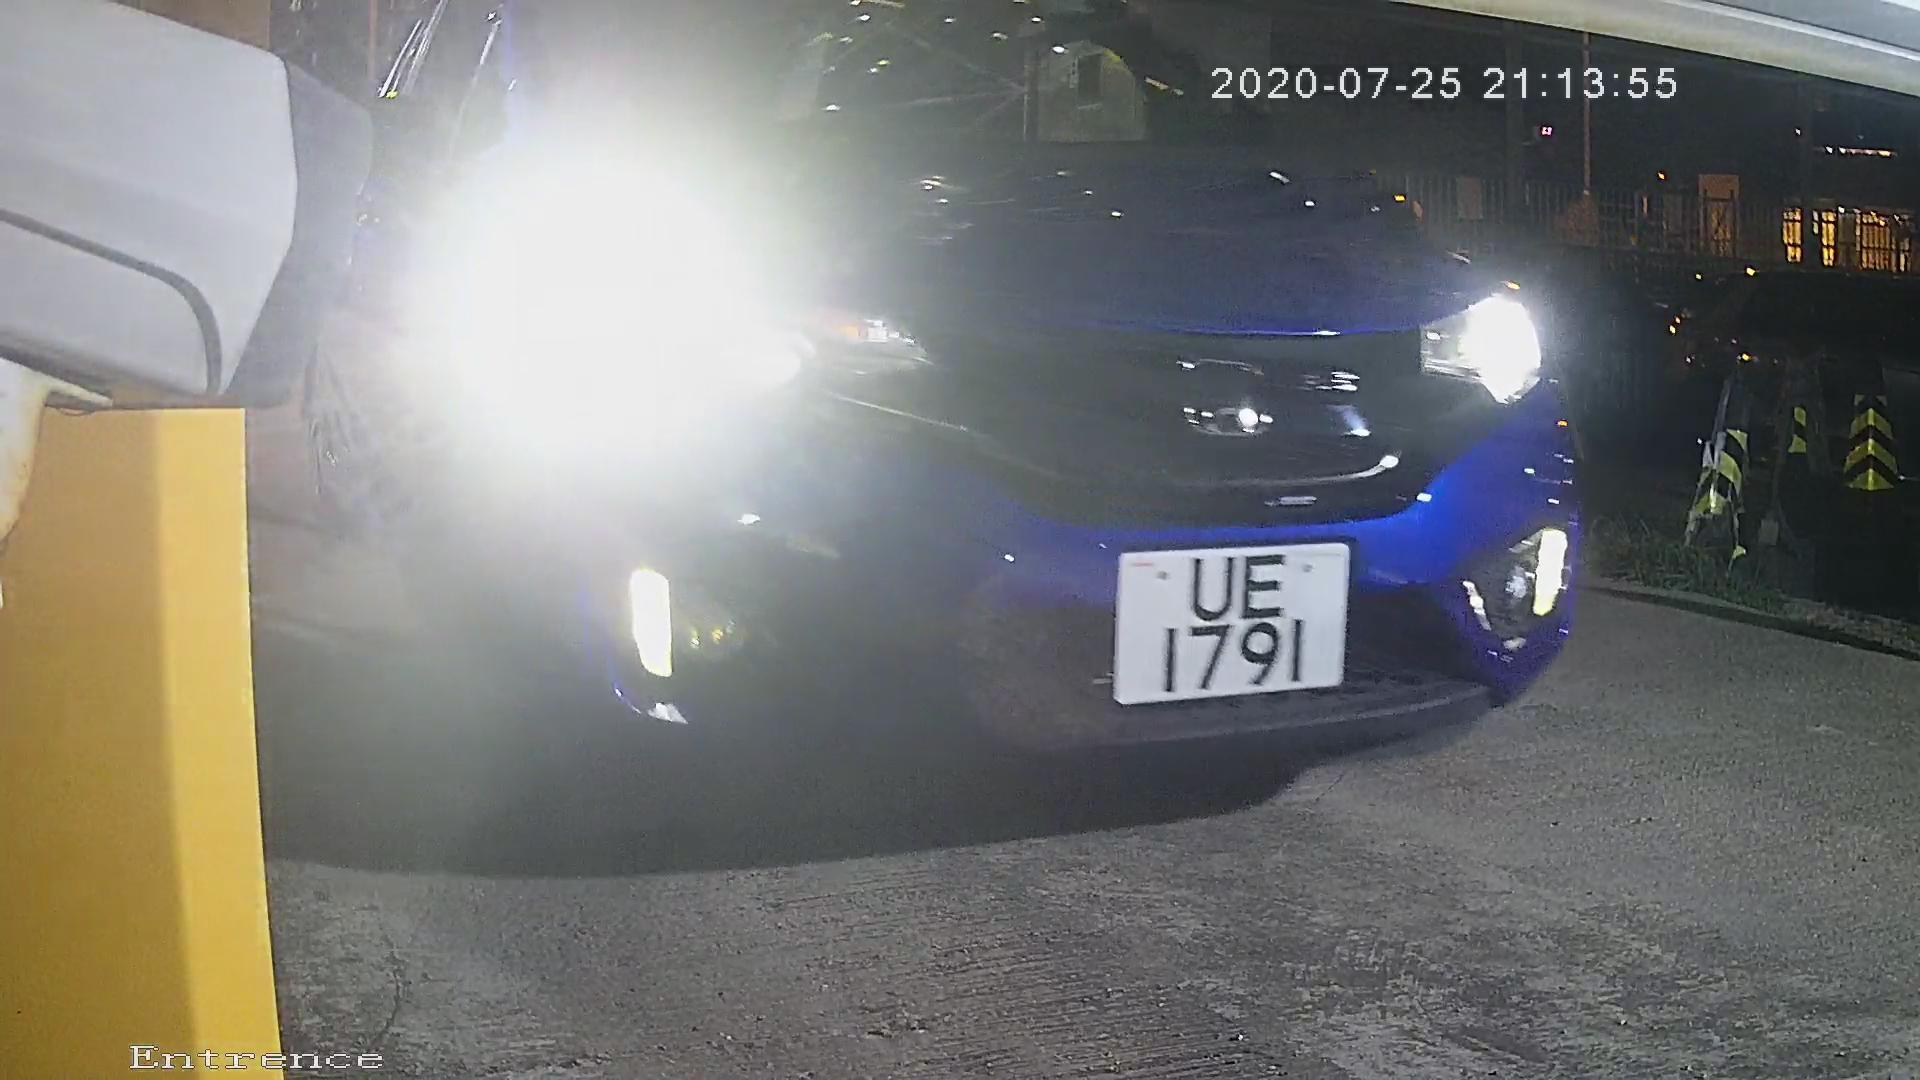privatecar: (378, 15, 1724, 849)
